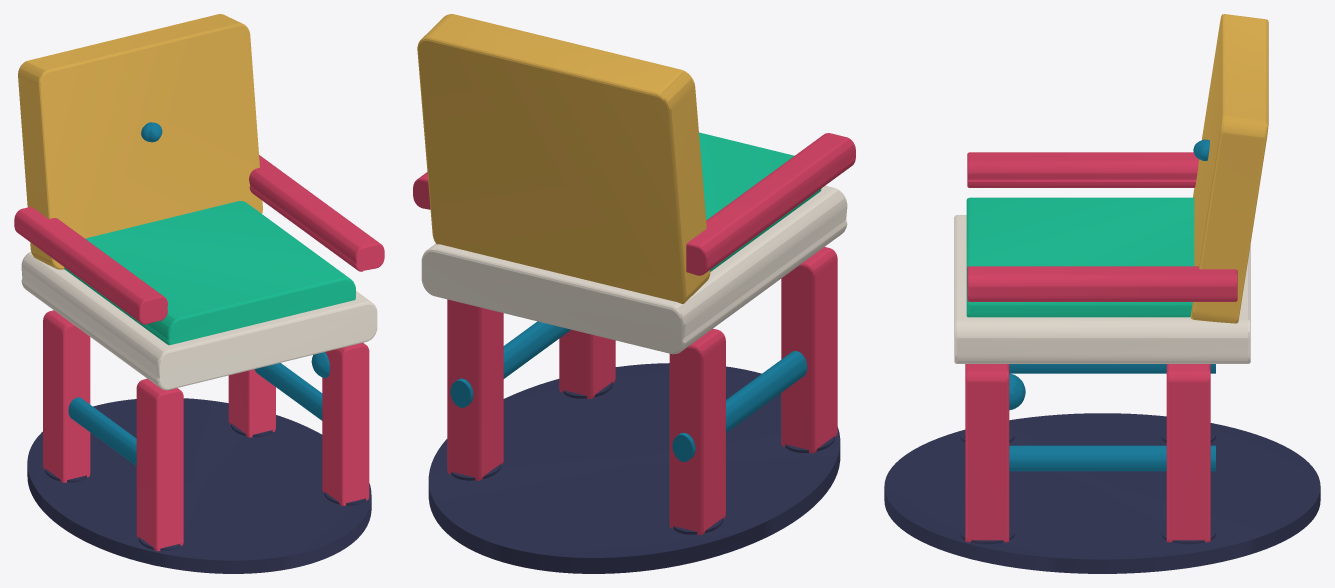
File: 1359_城市运转图鉴_生命探测仪.glb
3 views of the same model, side by side, from view 1: azimuth 30°, elevation 25°; view 2: azimuth 150°, elevation 25°; view 3: azimuth 270°, elevation 25° (orthographic). The views are drawn at different scales.
Parts seen in each view (by area): view 1: card_1359; view 2: card_1359; view 3: card_1359.
Part boxes in pixels (bbox=[...]): card_1359: bbox=[14, 14, 384, 573]; card_1359: bbox=[413, 14, 855, 573]; card_1359: bbox=[884, 14, 1320, 573].
Size of the model in its own units: 0.7165 by 1 by 0.9021.
